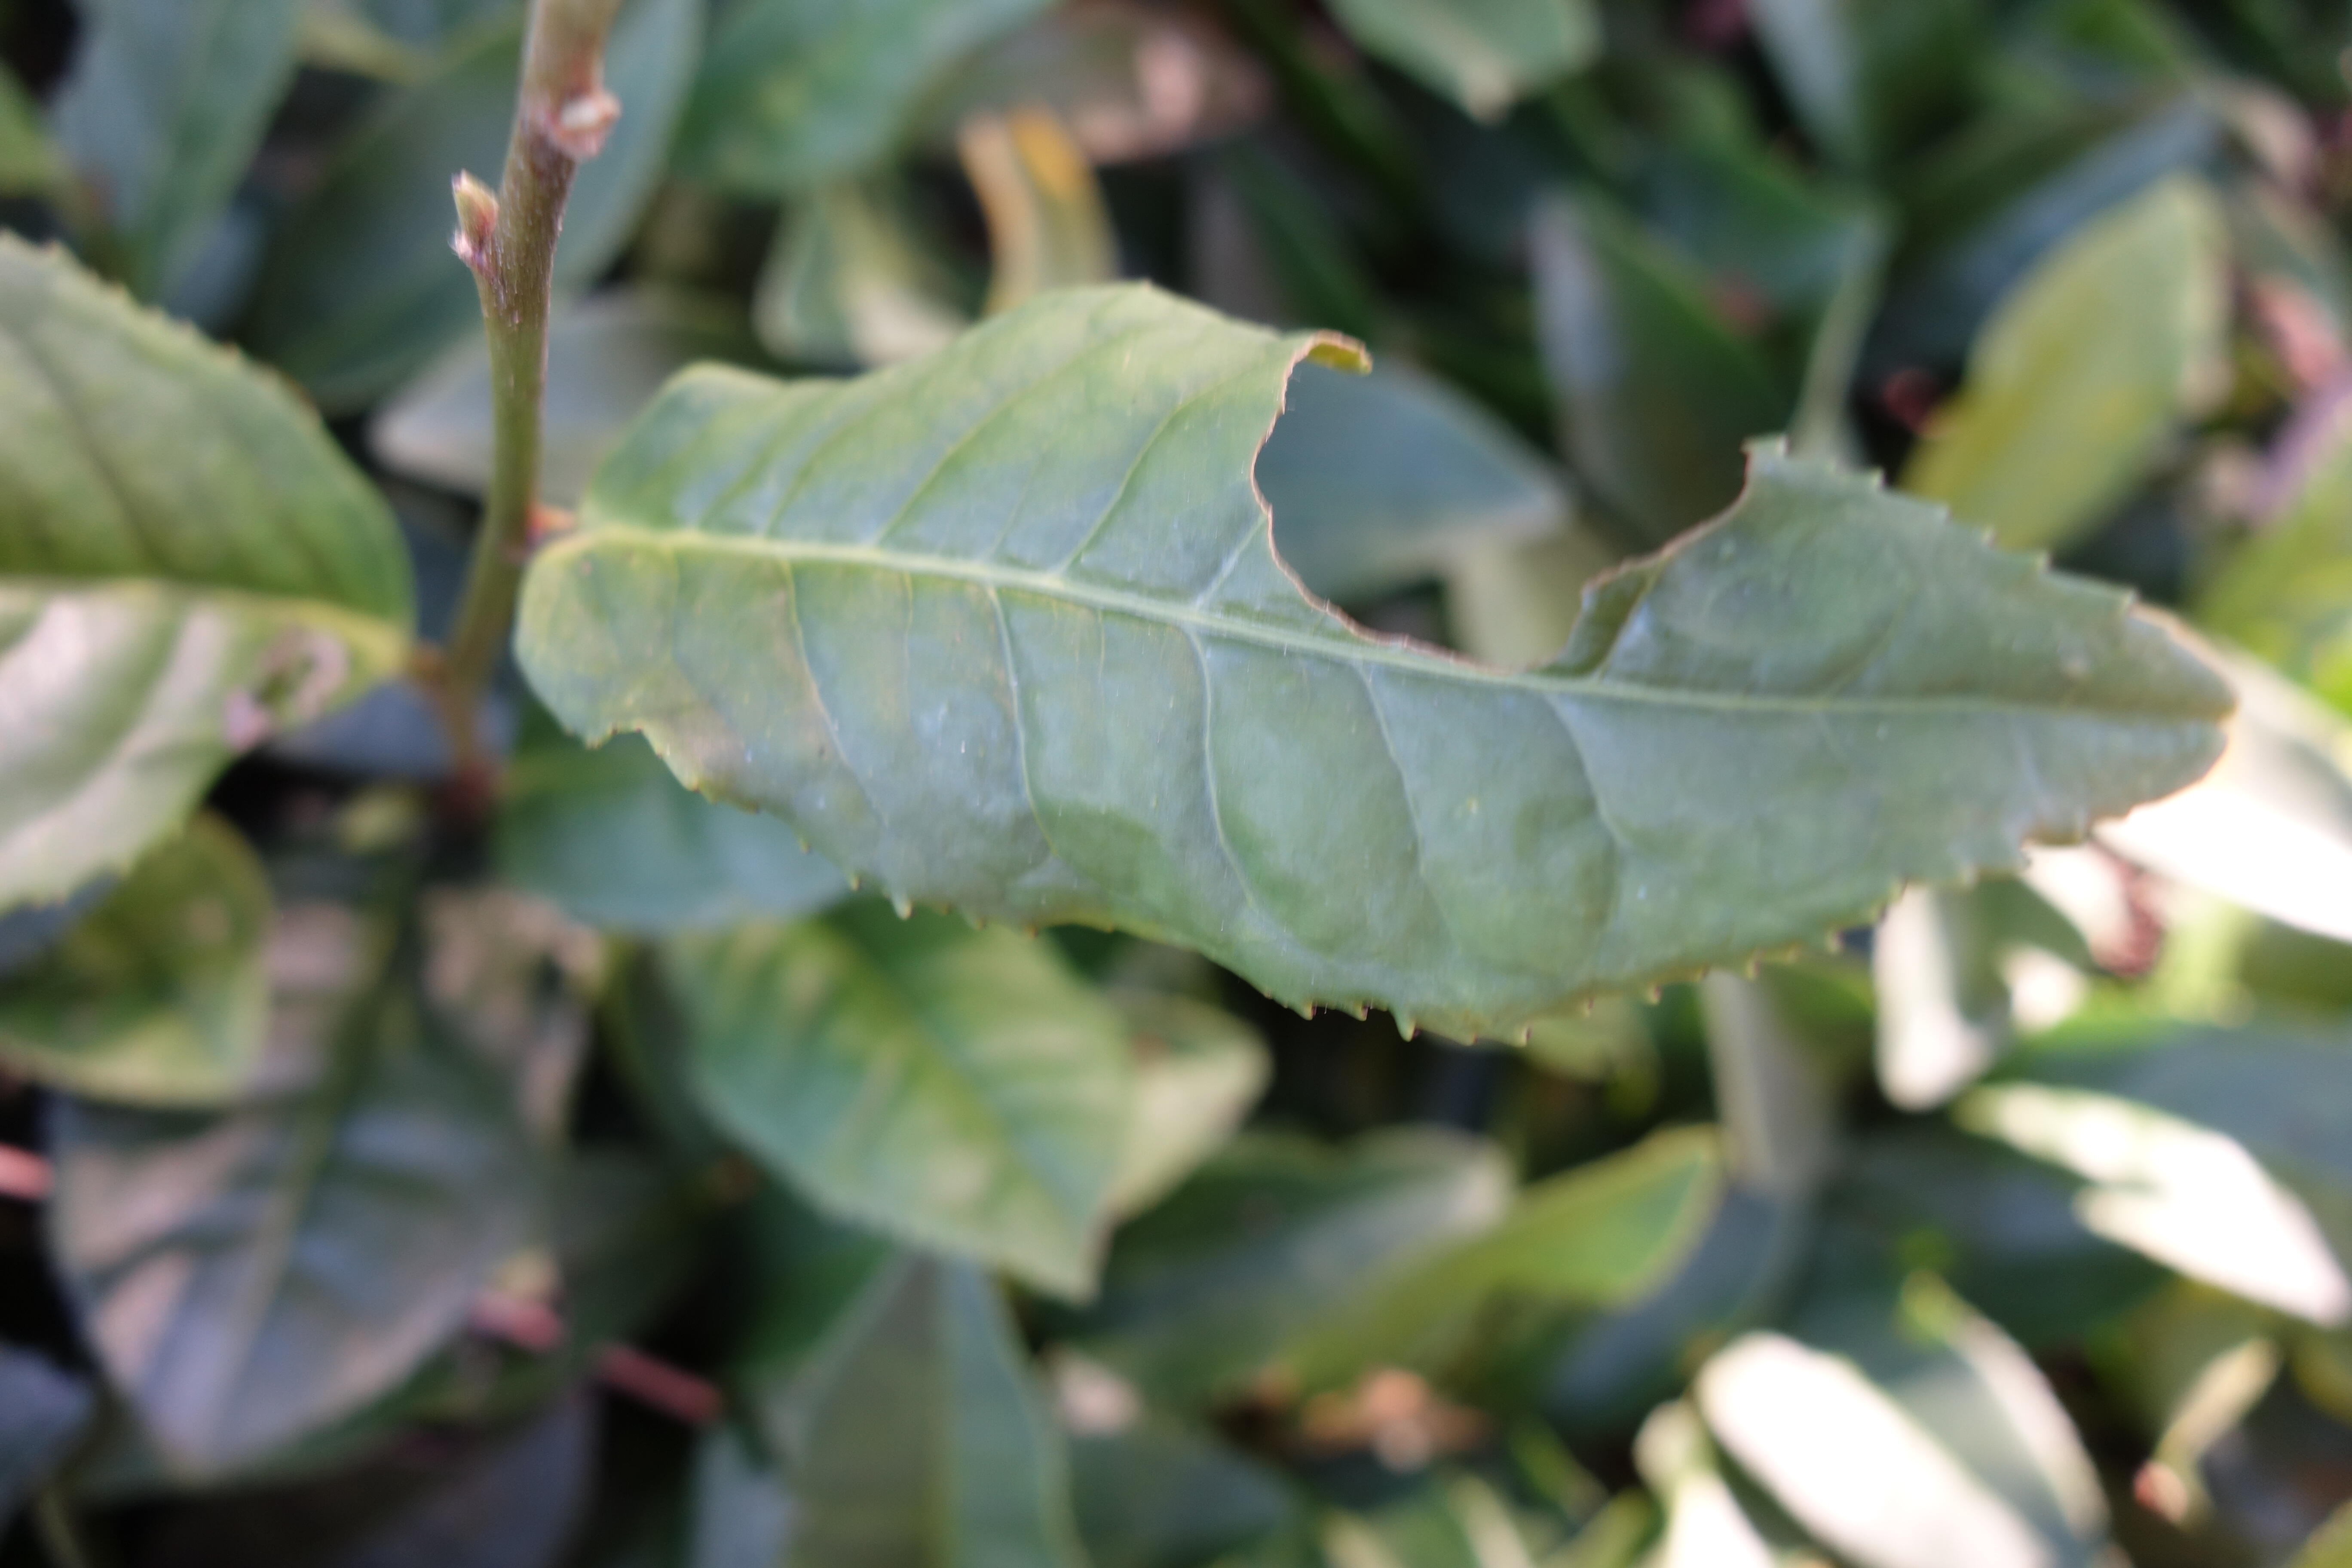chihuo_low: (509, 280, 2238, 1045)
